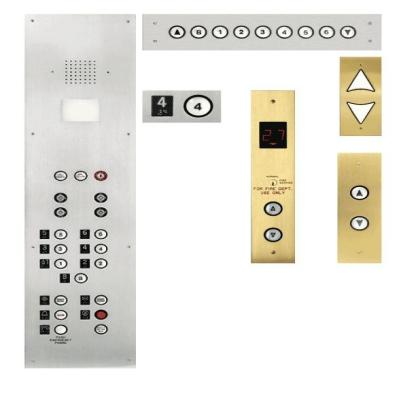1: (211, 25, 228, 38), (53, 258, 67, 268)
2: (233, 25, 250, 38), (93, 258, 108, 268), (78, 258, 90, 268)
3: (254, 25, 271, 38), (38, 242, 51, 254), (53, 243, 66, 254)
4: (182, 94, 212, 117), (150, 94, 174, 117), (276, 26, 292, 38), (78, 242, 90, 254), (94, 243, 107, 253)
5: (296, 26, 314, 38), (53, 228, 67, 240), (38, 228, 50, 240)
6: (318, 26, 335, 38), (94, 228, 107, 239), (78, 228, 90, 239)
B: (189, 24, 207, 38), (73, 272, 87, 283), (58, 272, 70, 282)
alarm: (38, 309, 50, 320)
call: (38, 324, 50, 334)
close: (78, 294, 90, 306)
down: (263, 227, 282, 242), (349, 215, 368, 230), (339, 26, 356, 38)
empty: (58, 96, 100, 123), (52, 324, 67, 334)
keyhole: (93, 206, 108, 217), (93, 170, 107, 181), (53, 206, 67, 217), (53, 192, 67, 202), (94, 192, 107, 202)
led: (256, 120, 288, 149)
open: (38, 294, 50, 305)
s1: (38, 257, 50, 269)
stop: (78, 308, 91, 320)
text_alarm bell: (53, 309, 67, 320)
text_blur: (53, 294, 68, 306), (93, 294, 108, 305), (93, 323, 108, 334), (94, 309, 107, 319)
unknown: (53, 170, 67, 181), (73, 170, 87, 181)
up: (262, 201, 283, 215), (350, 185, 368, 199), (168, 25, 185, 38)
